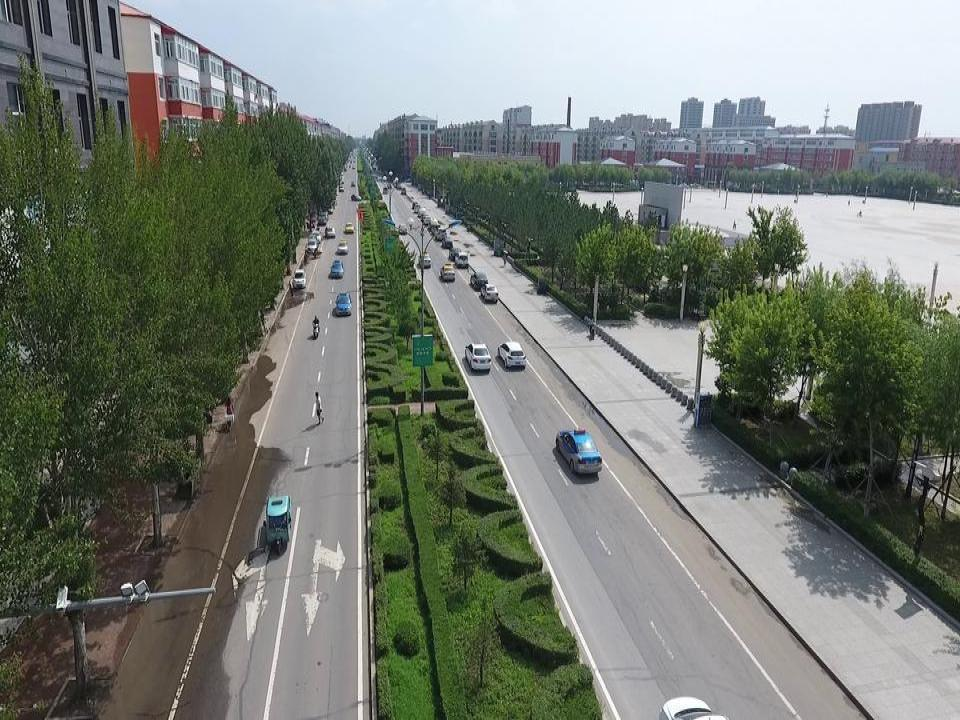car: (555, 423, 601, 477), (497, 339, 528, 369), (464, 341, 493, 372), (334, 291, 353, 317), (437, 262, 457, 282), (292, 266, 308, 290), (470, 270, 489, 290), (480, 284, 499, 303), (330, 258, 344, 278), (418, 251, 432, 269), (455, 252, 470, 268), (337, 237, 349, 256), (448, 247, 463, 260), (396, 224, 411, 236), (435, 227, 448, 240), (442, 236, 454, 248), (344, 221, 355, 234), (431, 223, 443, 233), (324, 227, 336, 237), (423, 215, 433, 225), (318, 211, 328, 221), (418, 207, 427, 217), (414, 204, 423, 212), (318, 216, 326, 225), (326, 206, 334, 214)
